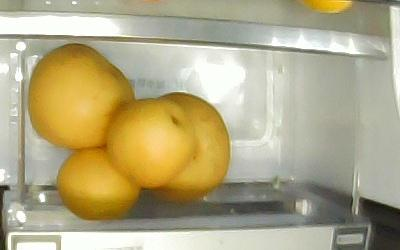pear: (27, 43, 134, 150), (149, 91, 232, 205), (106, 98, 196, 187), (57, 146, 142, 221)
